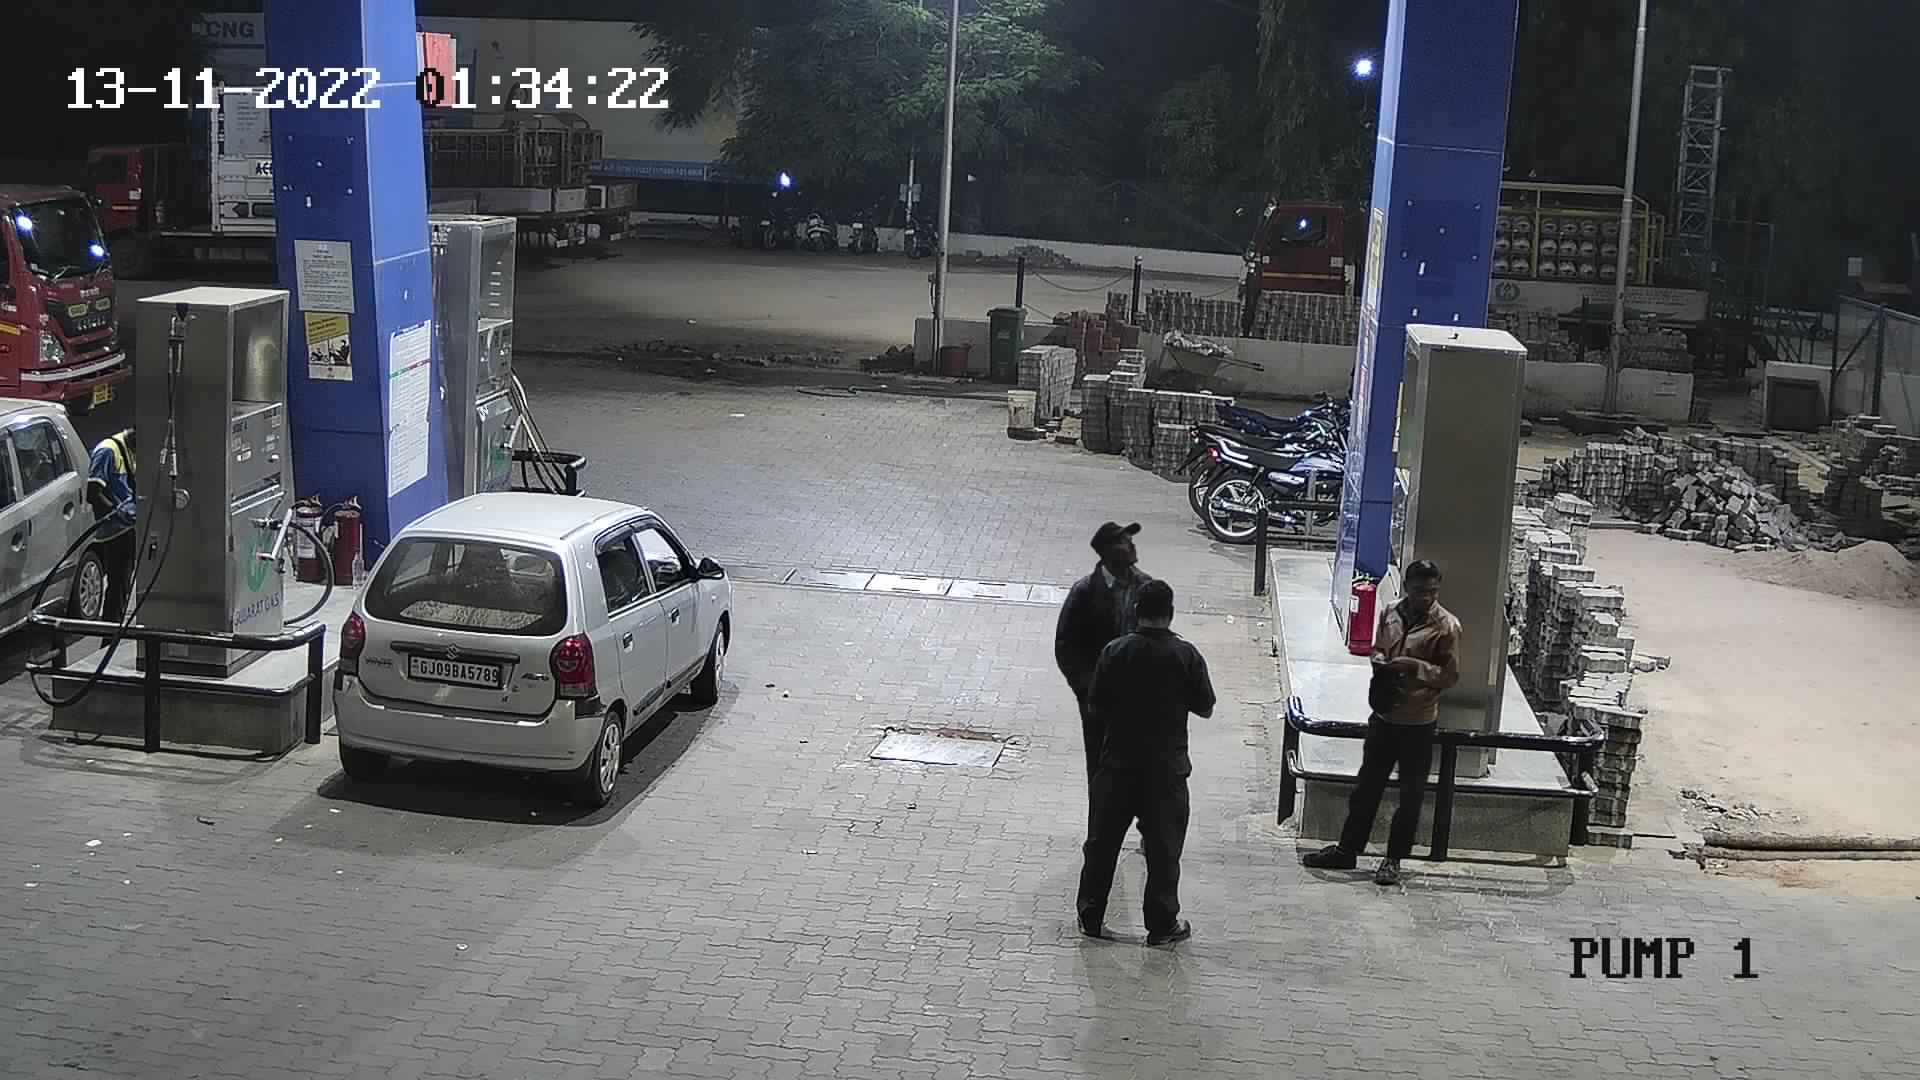Bike: (1175, 386, 1354, 560), (752, 182, 808, 262), (891, 194, 944, 272), (841, 189, 895, 264), (798, 185, 847, 253)
Car: (319, 464, 750, 811), (0, 371, 119, 692)
HMV: (76, 71, 287, 281), (406, 86, 646, 269), (0, 150, 140, 454), (1228, 181, 1373, 347)
Others: (74, 415, 150, 640)
